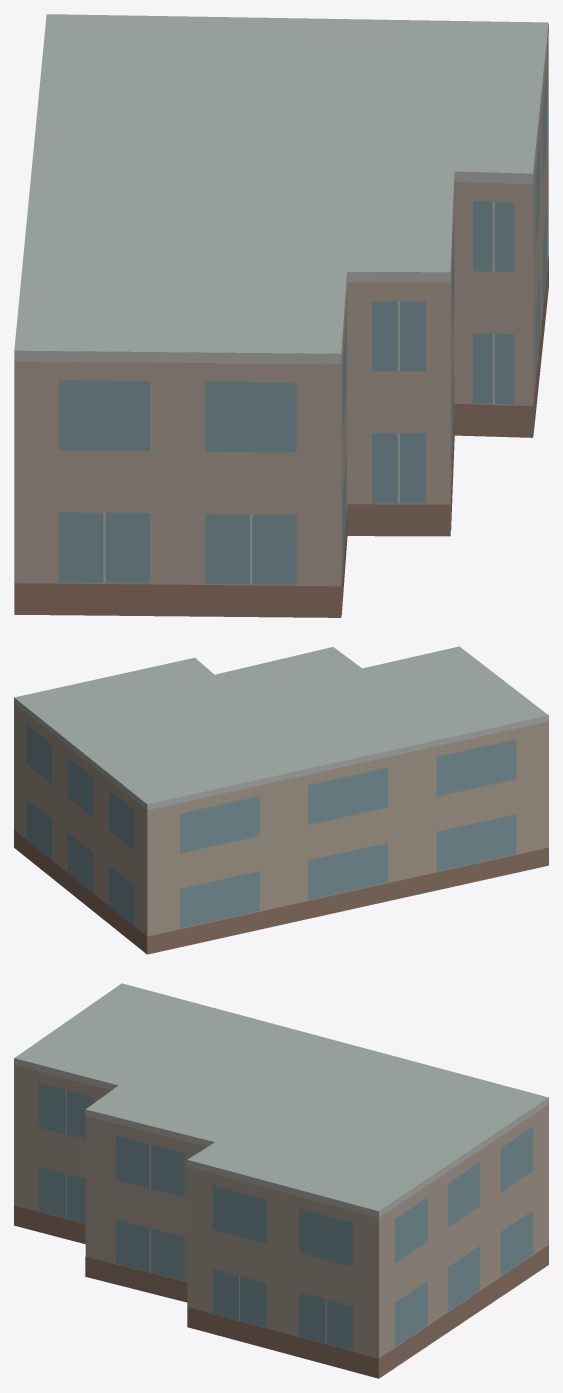
Rendered from survey-upis-33045672.glb.
3 views of the same model, one above another, from view 1: azimuth 30°, elevation 25°; view 2: azimuth 150°, elevation 25°; view 3: azimuth 270°, elevation 25° (orthographic). The views are drawn at different scales.
Parts seen in each view (by area): view 1: survey-upis-33045672.tmp; view 2: survey-upis-33045672.tmp; view 3: survey-upis-33045672.tmp.
Boxes of the visible parts, <box> form: survey-upis-33045672.tmp: <box>14,14,548,617</box>; survey-upis-33045672.tmp: <box>14,646,548,954</box>; survey-upis-33045672.tmp: <box>14,983,548,1378</box>.
Bounding box in the file's own units: 17.84 × 6.1 × 17.67.
